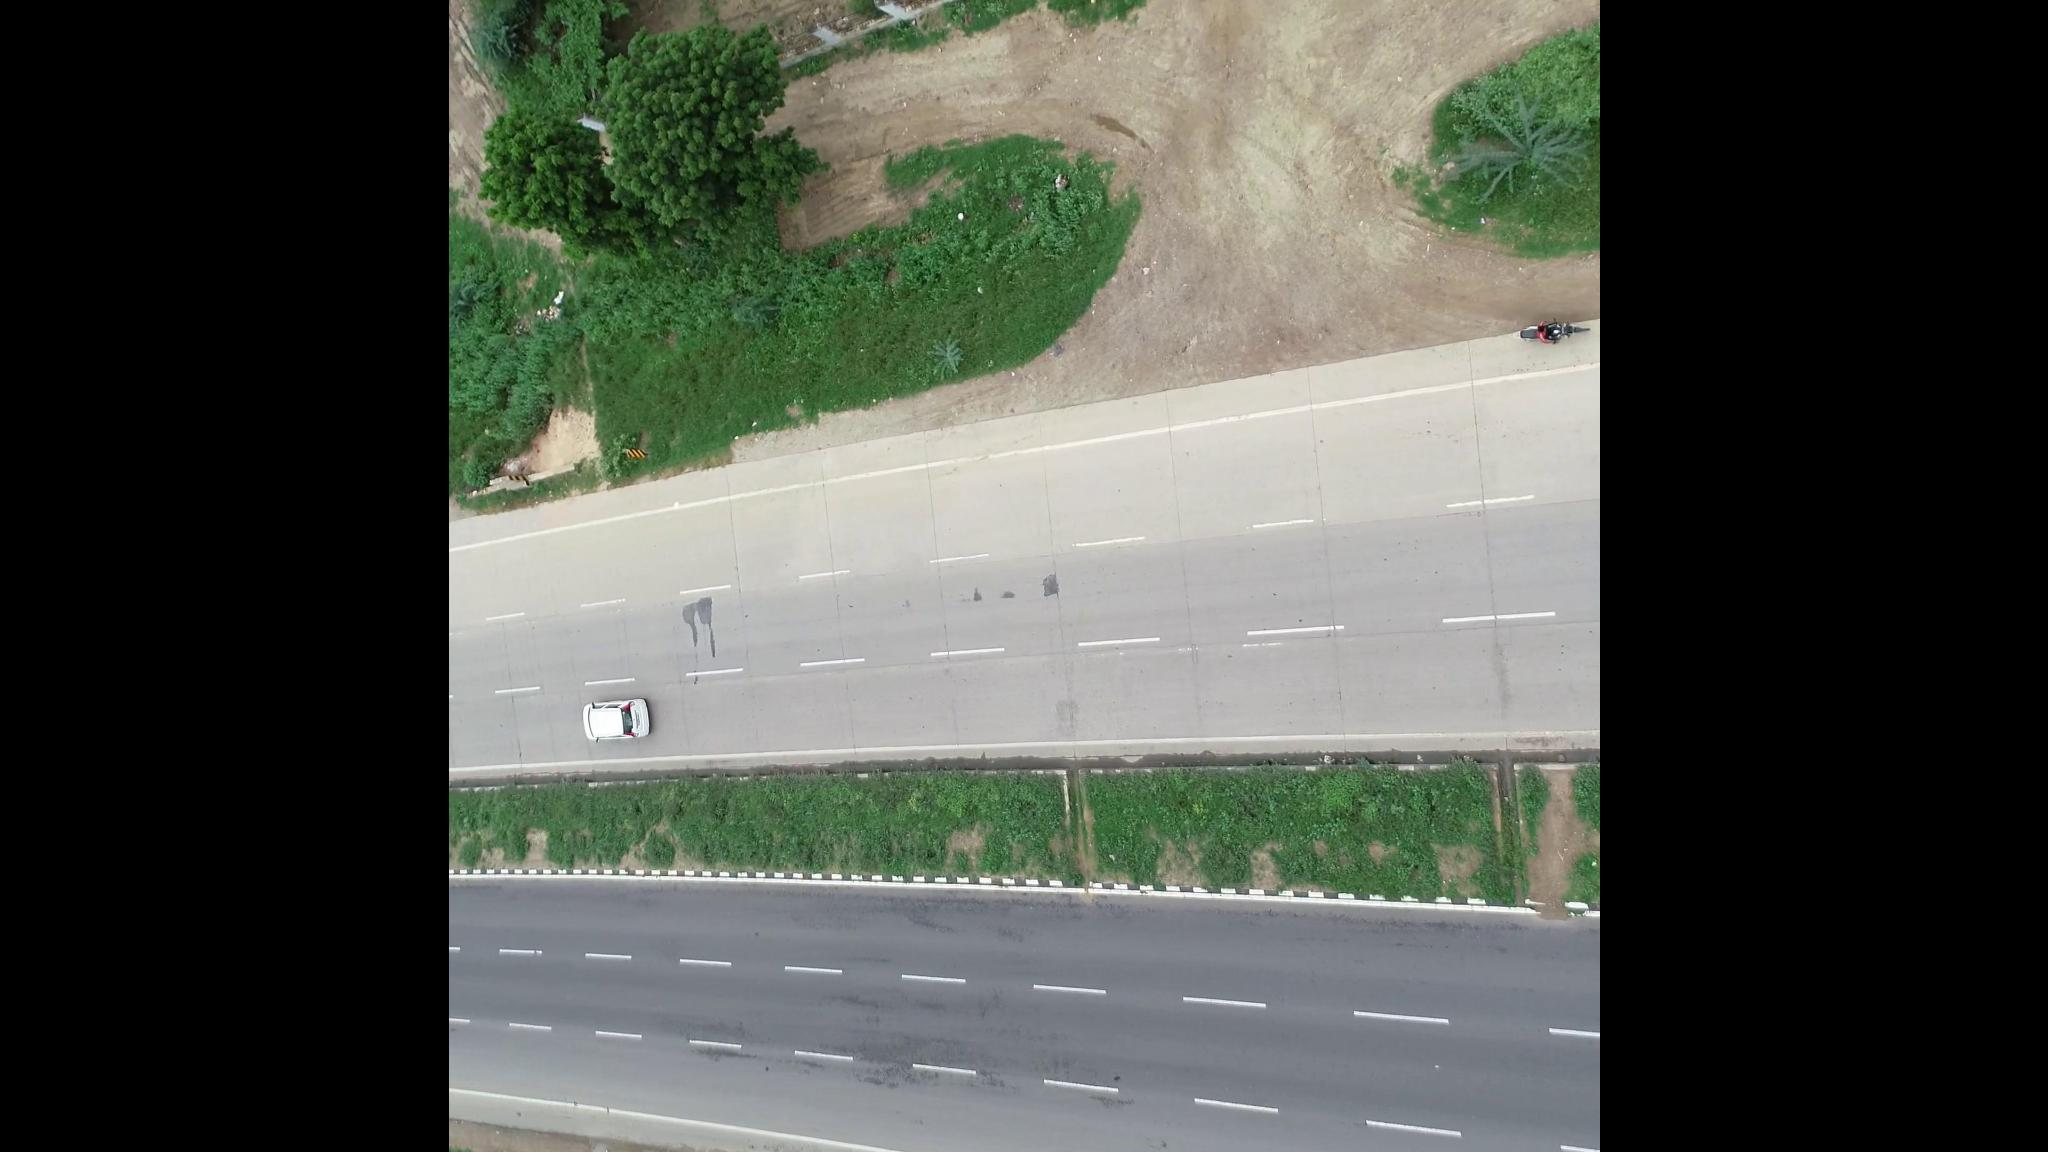Ravelling: (798, 1034, 1014, 1097)
